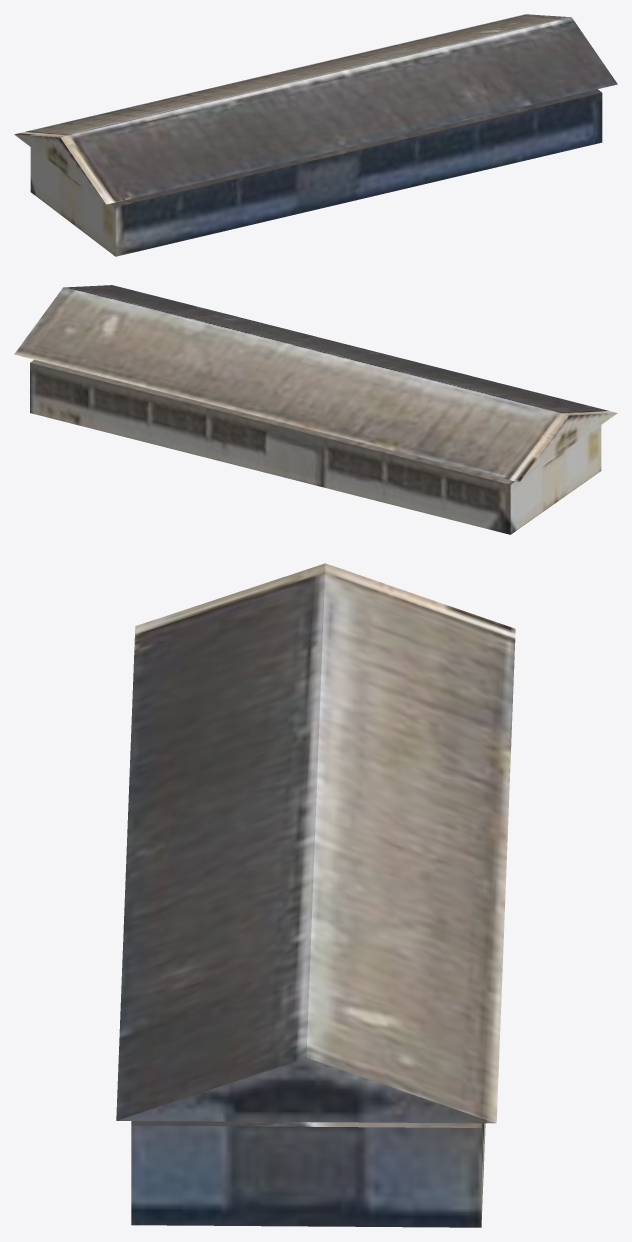
Rendered from EdificiopequeñoCercaDeCafePuro1.fbx.
3 views of the same model, one above another, from view 1: azimuth 30°, elevation 25°; view 2: azimuth 150°, elevation 25°; view 3: azimuth 270°, elevation 25° (orthographic). The views are drawn at different scales.
Parts seen in each view (by area): view 1: skp71B3_1; view 2: skp71B3_1; view 3: skp71B3_1.
Boxes of the visible parts, left/top/right/bottom form: skp71B3_1: left=14, top=14, right=617, bottom=256; skp71B3_1: left=14, top=285, right=617, bottom=534; skp71B3_1: left=116, top=563, right=515, bottom=1227.
Bounding box in the file's own units: 27.33 × 4.62 × 9.28.
